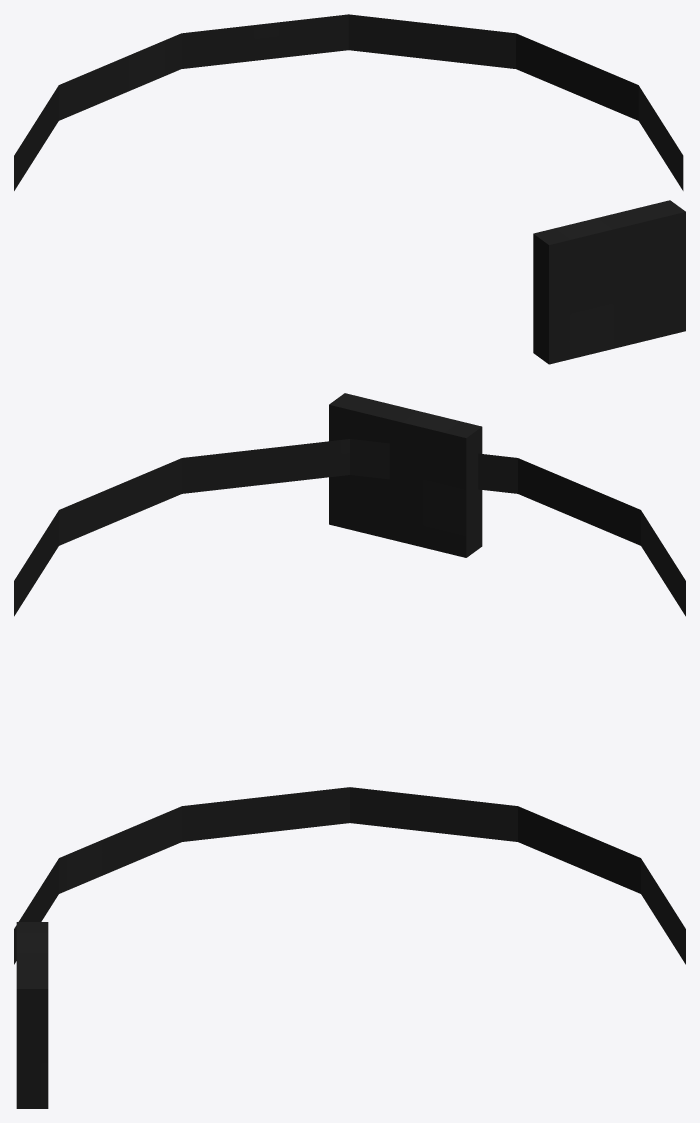
File: acc_eyepatch.glb
3 views of the same model, one above another, from view 1: azimuth 30°, elevation 25°; view 2: azimuth 150°, elevation 25°; view 3: azimuth 270°, elevation 25° (orthographic).
Parts seen in each view (by area): view 1: acc_eyepatch; view 2: acc_eyepatch; view 3: acc_eyepatch.
Part boxes in pixels (<box>): acc_eyepatch: <box>14,14,685,364</box>; acc_eyepatch: <box>14,393,685,616</box>; acc_eyepatch: <box>14,787,685,1108</box>.
Bounding box in the file's own units: 0.254 × 0.05 × 0.254.
Materials: 1 (1 with a texture image).
